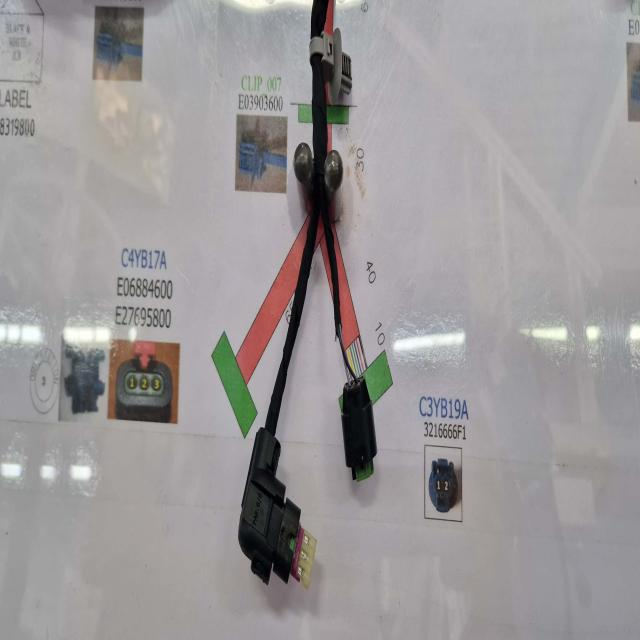Clip: (310, 28, 354, 104)
Connector: (239, 425, 318, 589), (341, 376, 377, 483)
Gape: (339, 320, 366, 386)
MHEV_N11_Cable: (265, 48, 343, 436), (309, 0, 328, 57)
